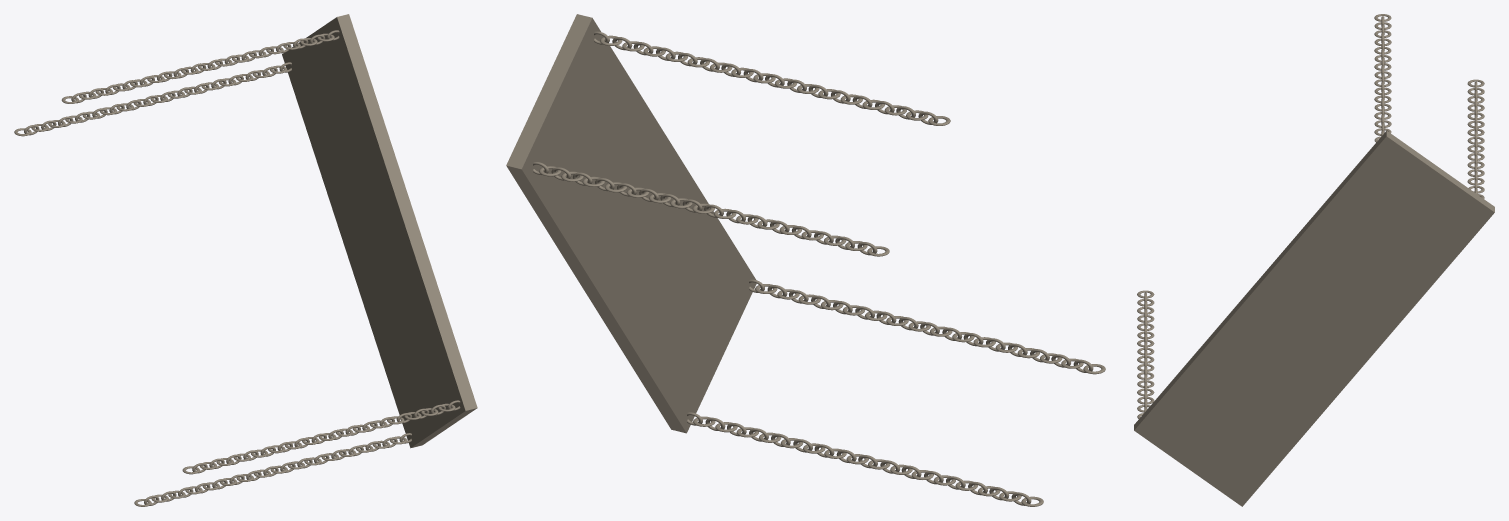
File: floatingshelf.fbx
The picture shows the model from 3 angles, left to right: view 1: azimuth 30°, elevation 25°; view 2: azimuth 150°, elevation 25°; view 3: azimuth 270°, elevation 25°; orthographic projection. The views are drawn at different scales.
Visible parts, largest first — view 1: Torus.001; view 2: Torus.001; view 3: Torus.001.
Part boxes in pixels (bbox=[...]): Torus.001: bbox=[14, 14, 477, 506]; Torus.001: bbox=[506, 14, 1105, 506]; Torus.001: bbox=[1134, 14, 1494, 506].
Size of the model in its own units: 476 by 596 by 526.
